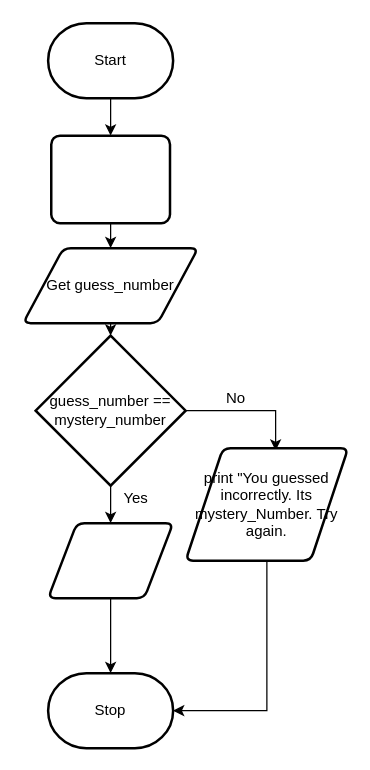
Image size: 370x770. Some labels were removed from this diagram. Each missing label, with the centre of its shape:
Generate mystery_Number: pixel 110 179
print "You guessed correct: pixel 110 560
